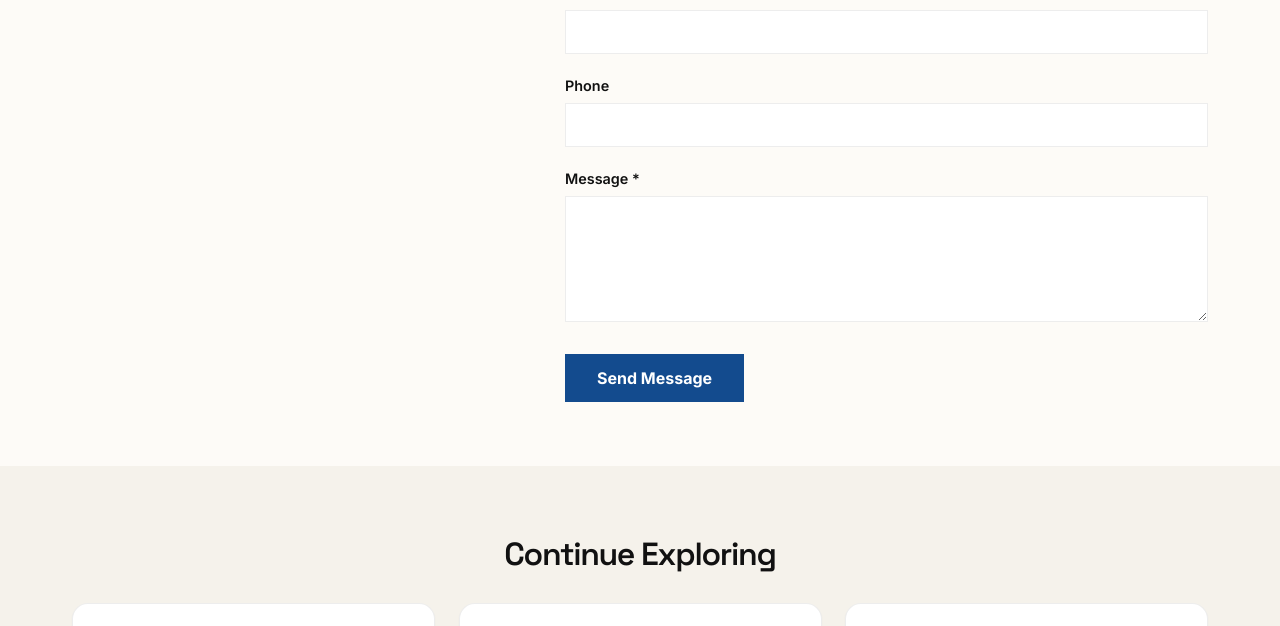
Test: Contact — client-side validation › shows error when name is empty
(page scrolled)
Click the button "Send Message" at {"x": 654, "y": 378}, box [565,354,744,402]
(page scrolled)
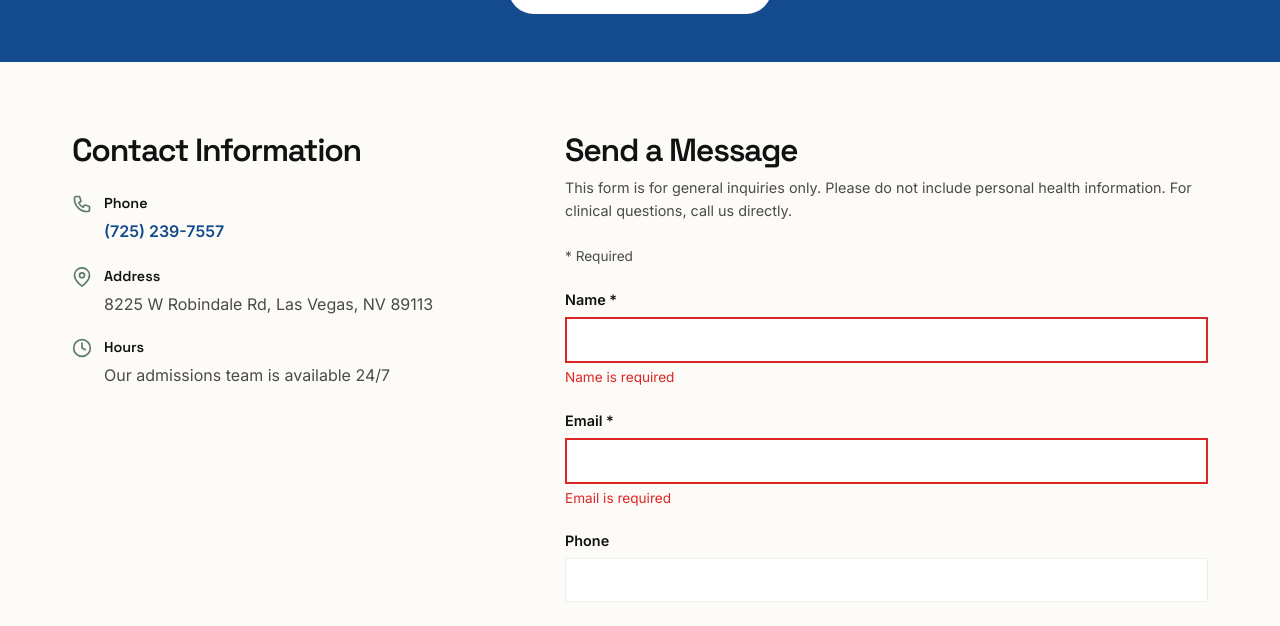
Now the text "Name is required" is shown, box [565,369,674,385]
